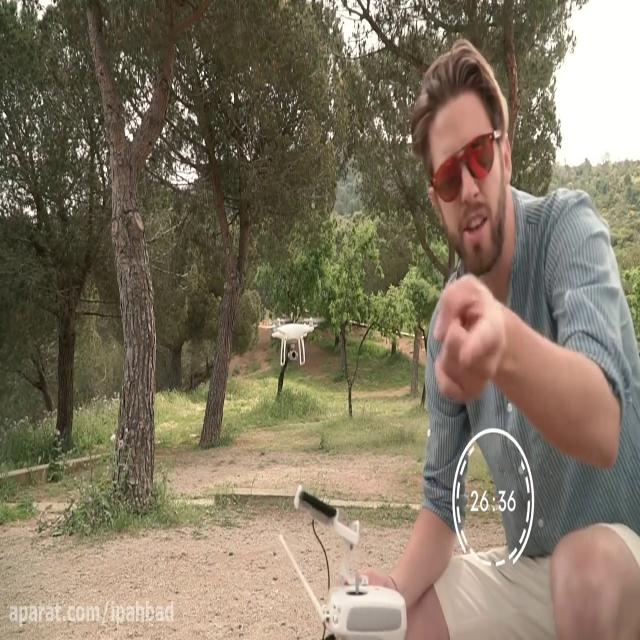drone: (265, 309, 325, 367)
